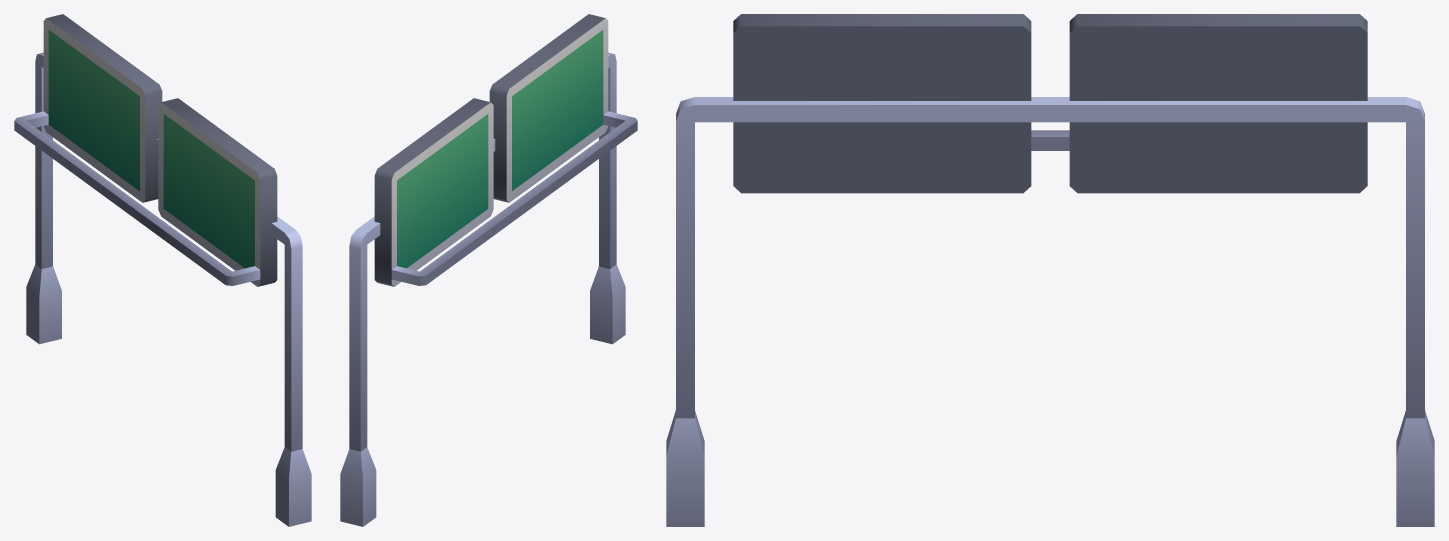
3 renders of one model, left to right at view 1: azimuth 30°, elevation 25°; view 2: azimuth 150°, elevation 25°; view 3: azimuth 270°, elevation 25°, orthographic. The views are drawn at different scales.
Parts seen in each view (by area): view 1: sign-highway; view 2: sign-highway; view 3: sign-highway.
Boxes of the visible parts, x1,y1,x2,y2 form: sign-highway: (14,14,311,526); sign-highway: (340,14,637,526); sign-highway: (666,14,1434,526).
Size of the model in its own units: 1.41 by 7.55 by 10.68.
Materials: 1 (1 with a texture image).
